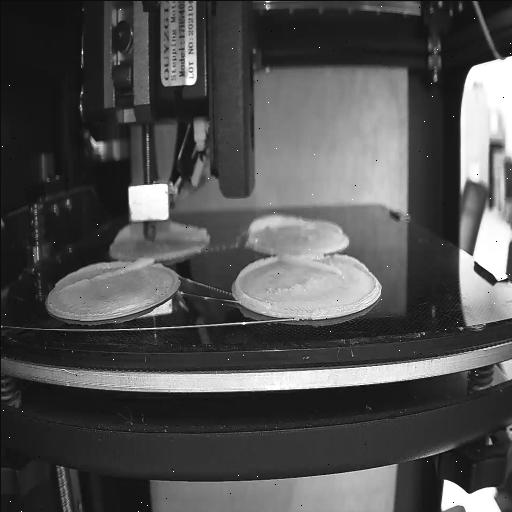over_extrusion: (61, 257, 155, 289), (232, 254, 277, 306), (280, 252, 370, 276), (244, 212, 306, 244), (155, 220, 207, 236), (114, 221, 142, 241), (315, 217, 342, 233)
